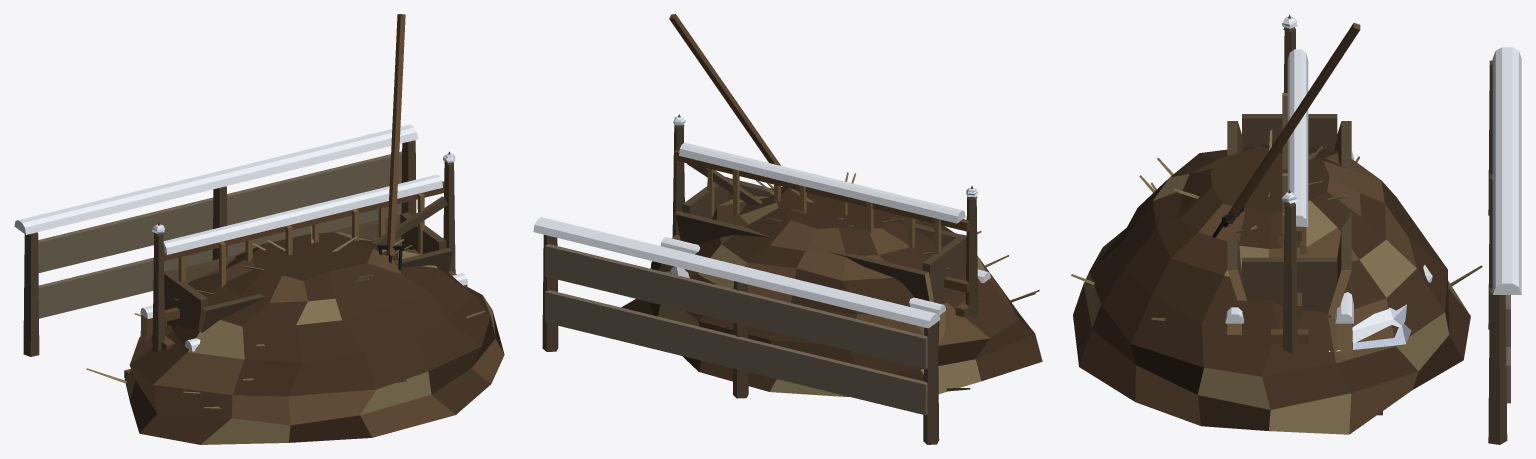
File: fuellung_hof.glb
The picture shows the model from 3 angles, left to right: view 1: azimuth 30°, elevation 25°; view 2: azimuth 150°, elevation 25°; view 3: azimuth 270°, elevation 25°; orthographic projection. The views are drawn at different scales.
Parts seen in each view (by area): view 1: Misthaufen, Misthaufen_Winter, PferchHuerde, Futtertrog, PferchHuerde_Winter; view 2: Misthaufen, Misthaufen_Winter, PferchHuerde, Futtertrog, PferchHuerde_Winter, Trog_Winter, Trog; view 3: Misthaufen, Futtertrog, Misthaufen_Winter, PferchHuerde, PferchHuerde_Winter, Trog, Trog_Winter.
Boxes of the visible parts, left/top/right/bottom form: Misthaufen: left=23, top=14, right=504, bottom=444; Misthaufen_Winter: left=14, top=124, right=417, bottom=234; PferchHuerde: left=124, top=151, right=455, bottom=378; Futtertrog: left=164, top=212, right=452, bottom=332; PferchHuerde_Winter: left=152, top=153, right=455, bottom=254; Misthaufen: left=542, top=14, right=1042, bottom=444; Misthaufen_Winter: left=533, top=217, right=940, bottom=328; PferchHuerde: left=672, top=114, right=978, bottom=317; Futtertrog: left=676, top=177, right=966, bottom=303; PferchHuerde_Winter: left=673, top=116, right=978, bottom=223; Trog_Winter: left=660, top=237, right=990, bottom=315; Trog: left=660, top=235, right=989, bottom=342; Misthaufen: left=1071, top=23, right=1510, bottom=444; Futtertrog: left=1227, top=114, right=1351, bottom=319; Misthaufen_Winter: left=1329, top=47, right=1521, bottom=351; PferchHuerde: left=1278, top=14, right=1382, bottom=415; PferchHuerde_Winter: left=1281, top=16, right=1308, bottom=226; Trog: left=1227, top=323, right=1353, bottom=358; Trog_Winter: left=1225, top=151, right=1353, bottom=323.
Size of the model in its own units: 2.7 by 2.04 by 2.17.
